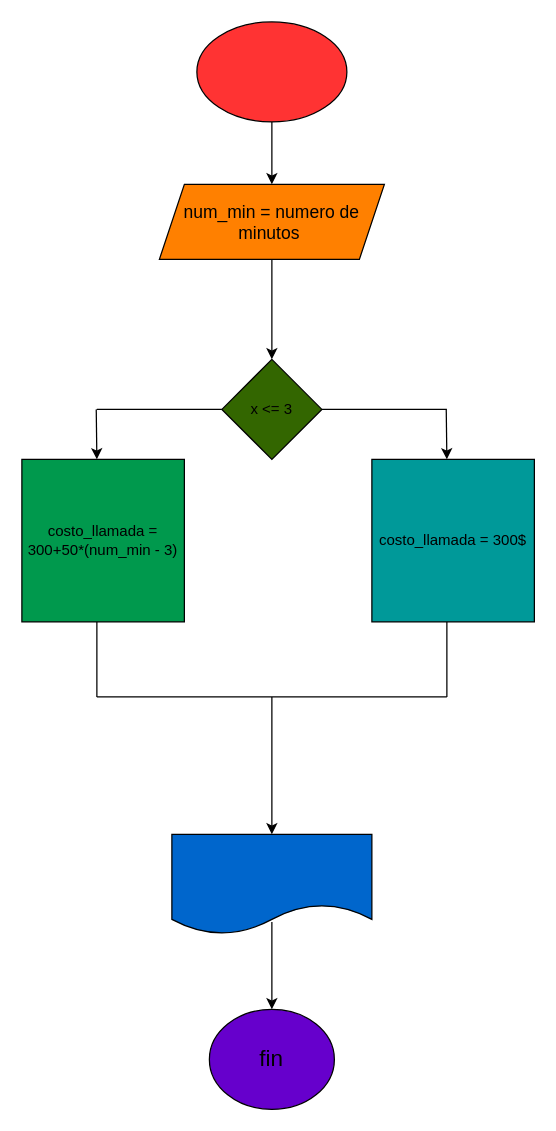
Image size: 556x1131. Some labels were removed from this diagram. The centre of each missing label's shape, as x and y in pixels:
"inicio" belongs at [271,71].
"valor de la llamada es: costo_llamada" belongs at [271,883].
